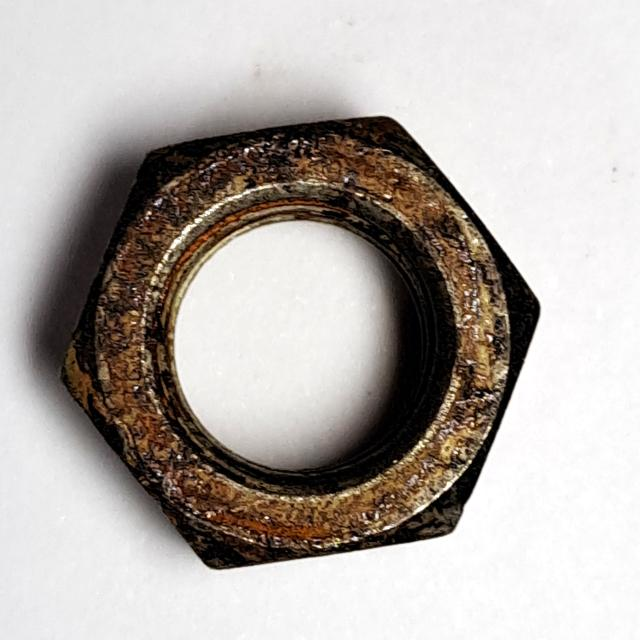Rust: (49, 96, 558, 587)
